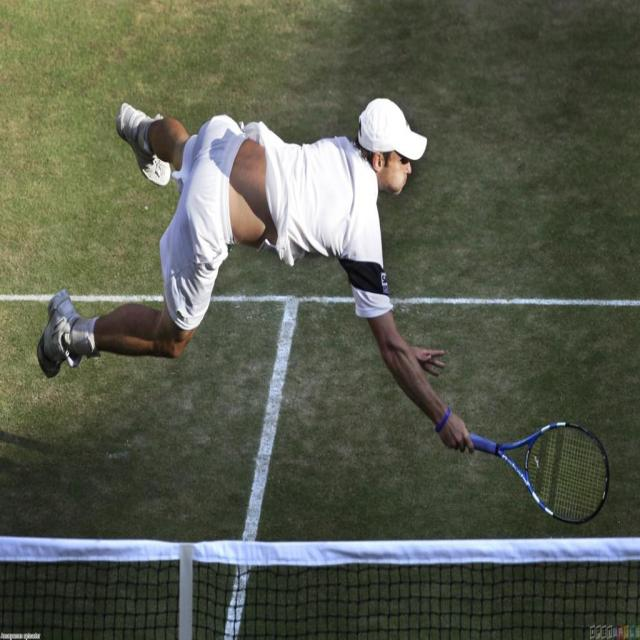nomask: (384, 140, 411, 193)
